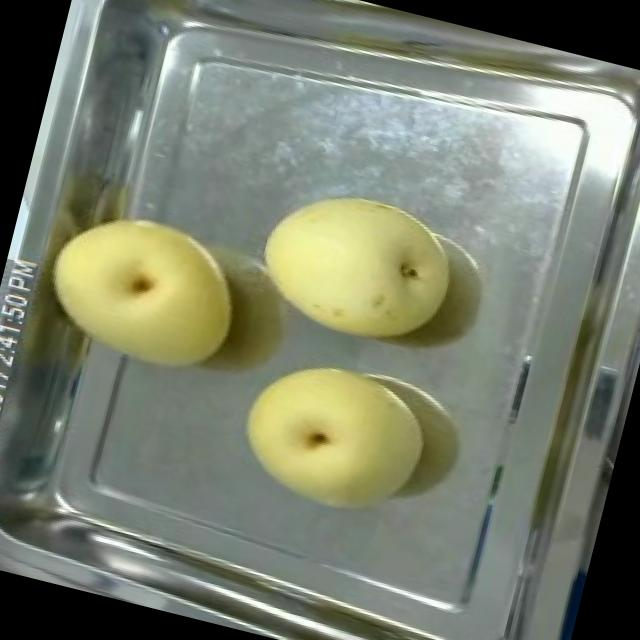Fruit: (22, 188, 256, 392), (236, 166, 469, 366), (219, 336, 445, 536)
